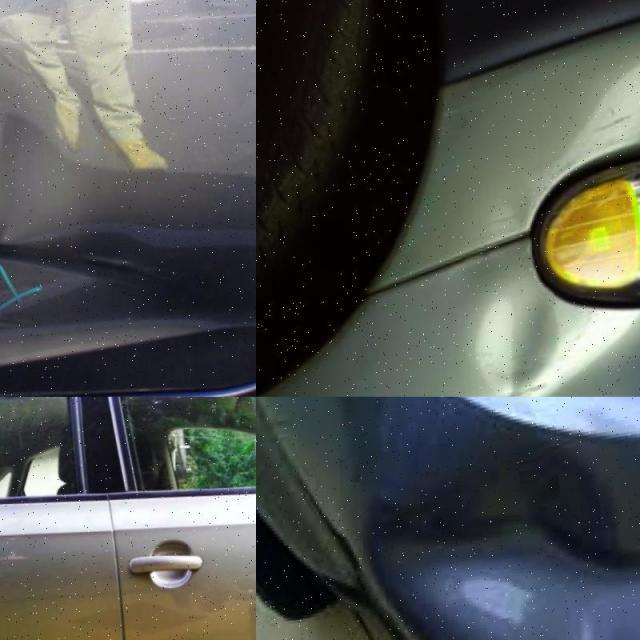car damage: (355, 429, 640, 640), (3, 115, 223, 337), (470, 285, 570, 397)
